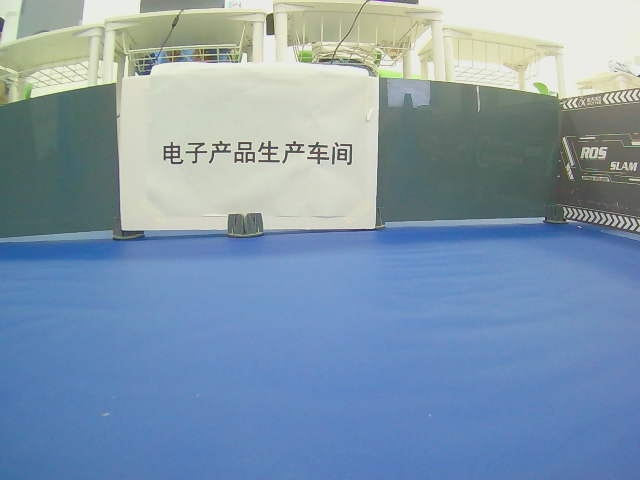target: (163, 141, 355, 167)
